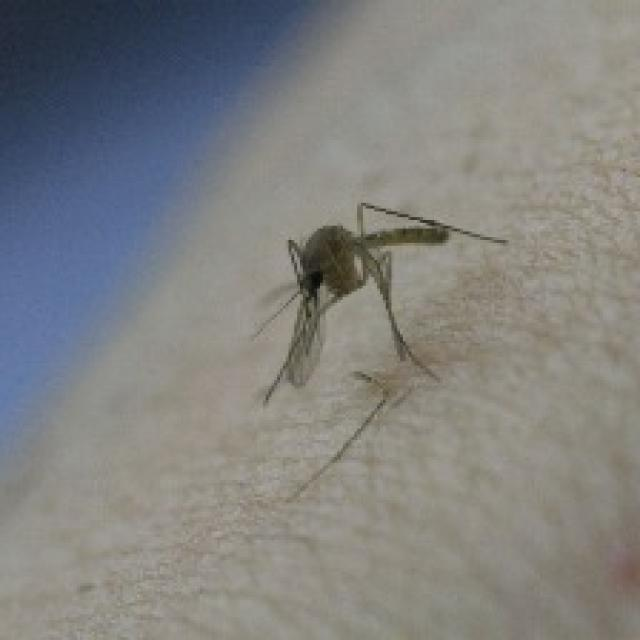culex: (248, 197, 506, 406)
